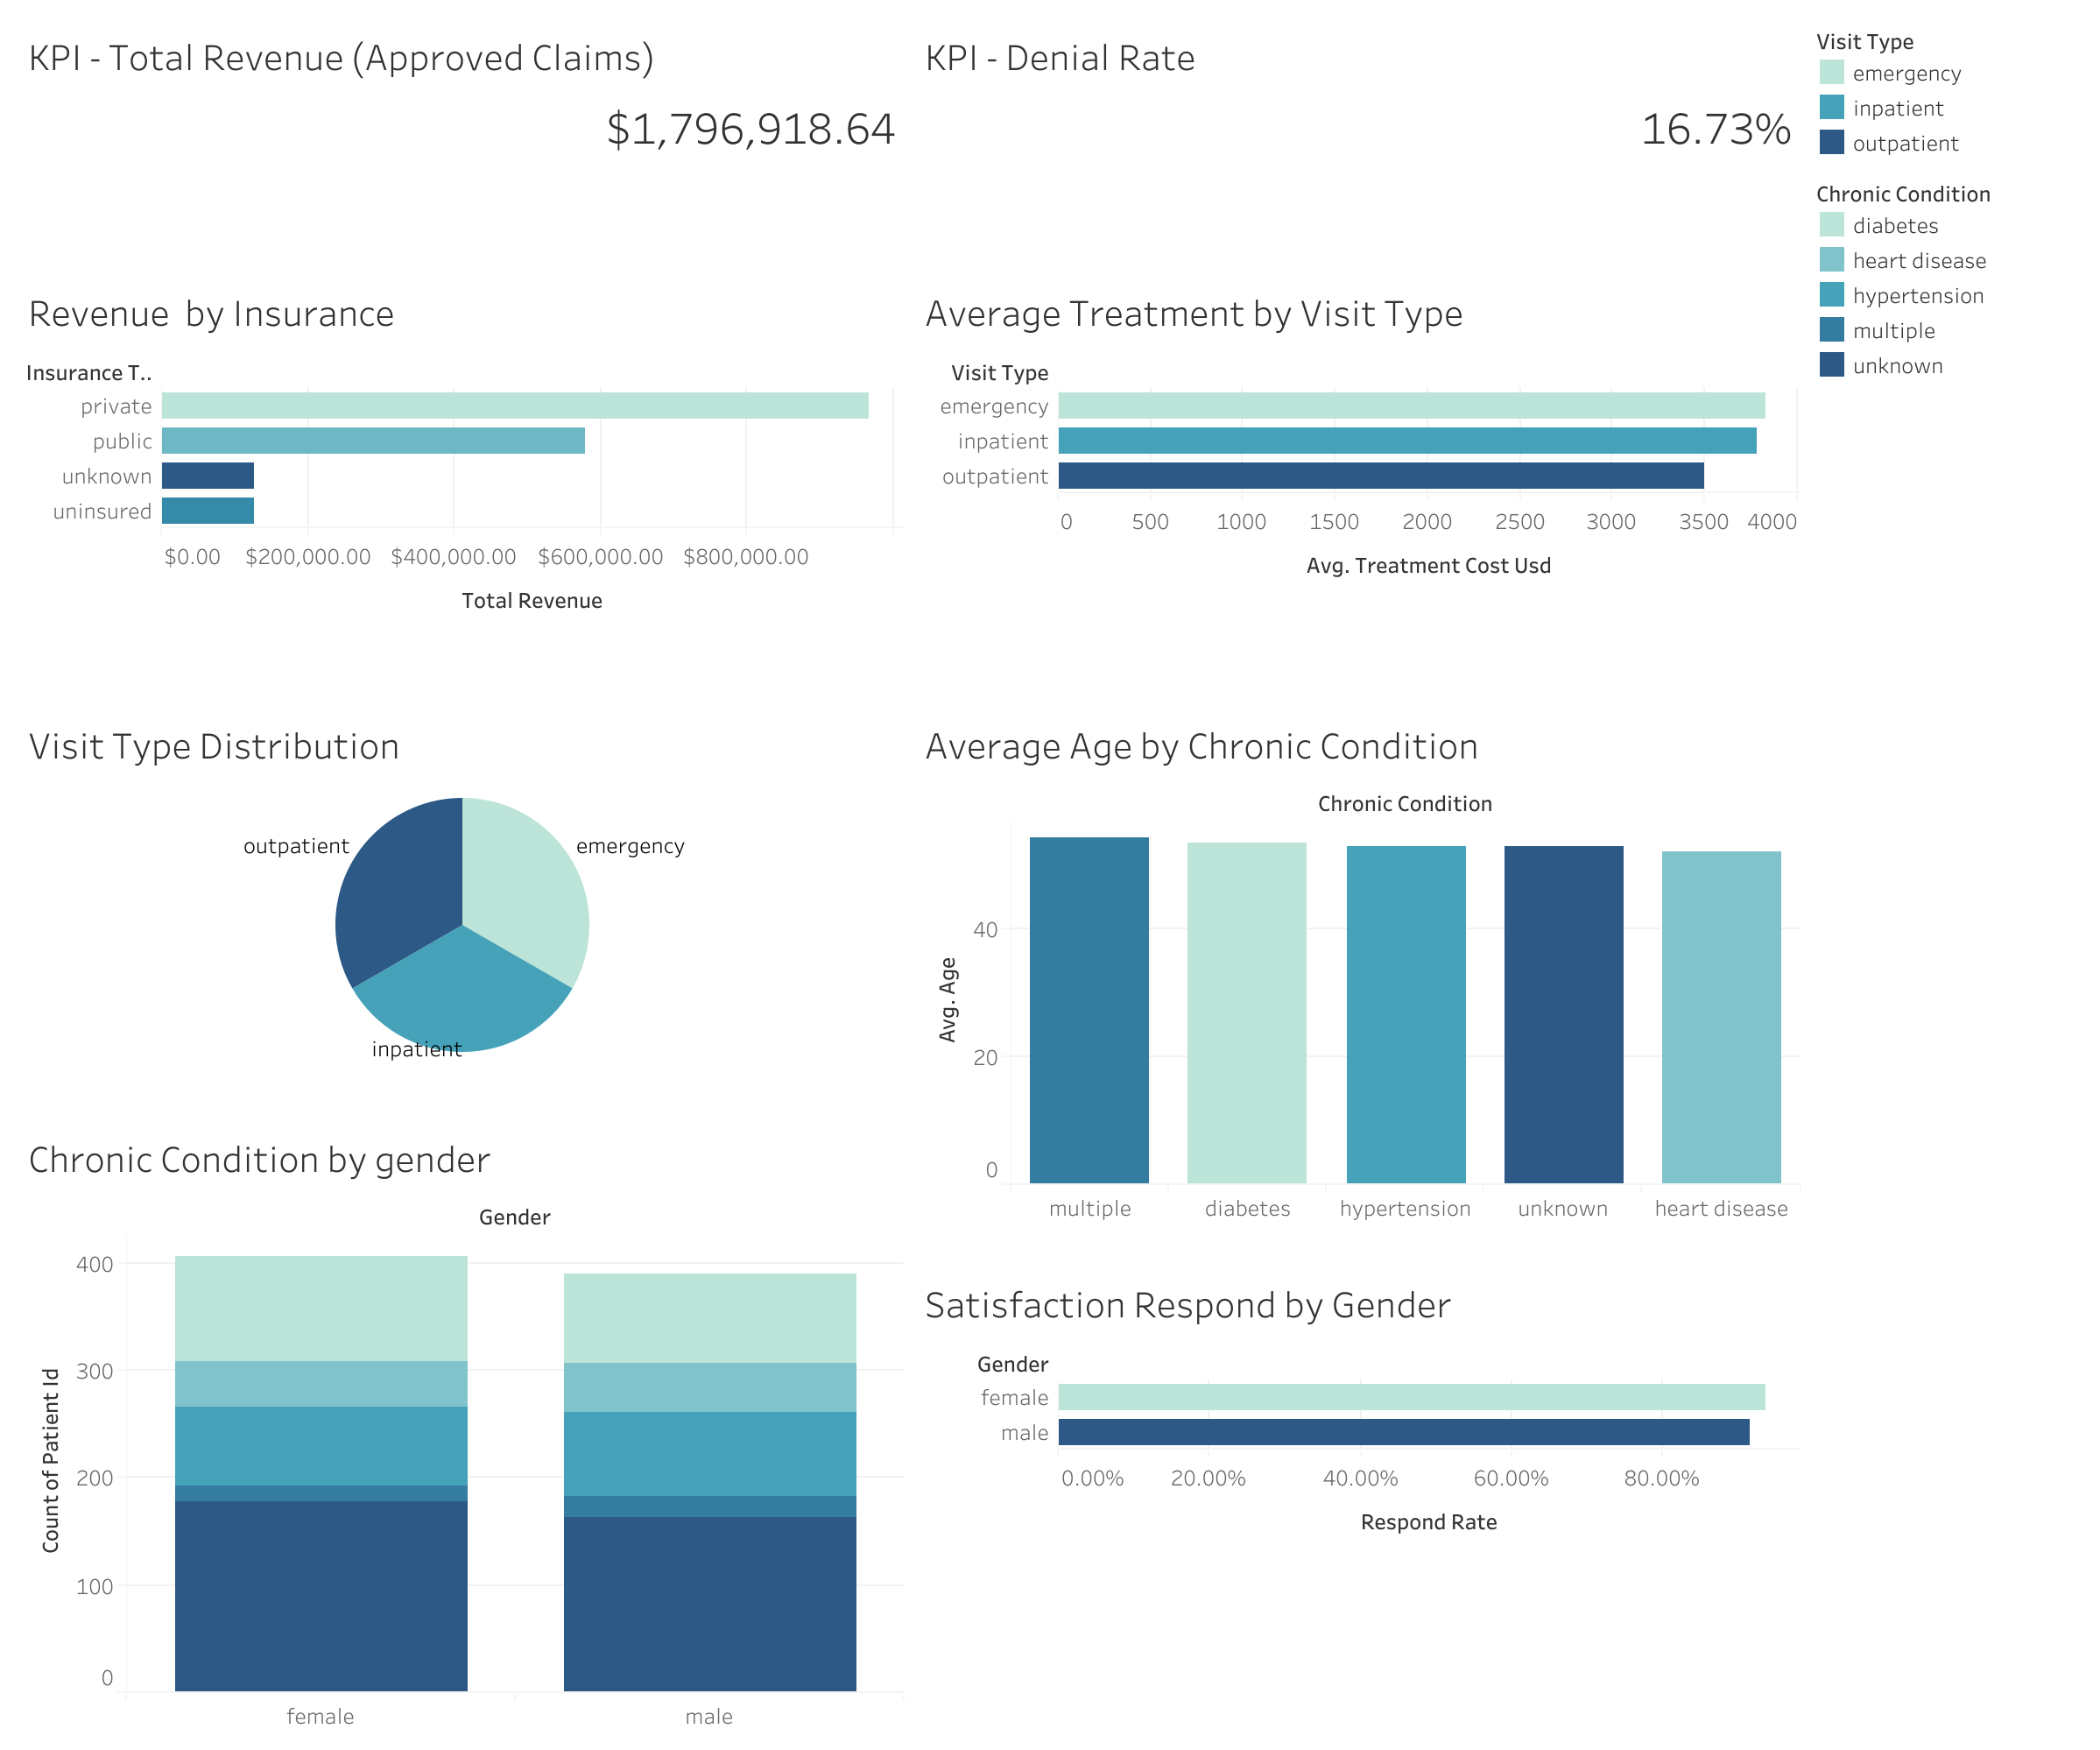

What the dashboard file says about the page in this screenshot:
{"tool":"tableau","page":{"name":"HealthCare Dashboard","canvas":[1200,1000],"ordinal":0},"visuals":[{"type":"worksheet","title":"KPI - Total Revenue (Approved Claims)","mark":"Automatic","box":[8,8,512,145.8]},{"type":"worksheet","title":"KPI - Denial Rate","mark":"Automatic","box":[520,8,512,145.8]},{"type":"legend","title":"Visit Type Distribution","param":"[federated.0gcnler0zsh6en15s2vam0u8z1nk].[none:visit_type:nk]","box":[1032,8,160,86]},{"type":"legend","title":"Chronic Condition by gender ","param":"[federated.0gcnler0zsh6en15s2vam0u8z1nk].[none:chronic_condition:nk]","box":[1032,94,160,126]},{"type":"worksheet","title":"Revenue  by Insurance","mark":"Automatic","rows":["insurance_type"],"cols":["Calculation_931822943112220672"],"box":[8,153.8,512,247.1]},{"type":"worksheet","title":"Average Treatment by Visit Type","mark":"Automatic","rows":["visit_type"],"cols":["treatment_cost_usd"],"box":[520,153.8,512,247.1]},{"type":"worksheet","title":"Visit Type Distribution","mark":"Pie","box":[8,400.9,512,236.1]},{"type":"worksheet","title":"Average Age by Chronic Condition","mark":"Automatic","rows":["age"],"cols":["chronic_condition"],"box":[520,400.9,512,319.1]},{"type":"worksheet","title":"Chronic Condition by gender ","mark":"Automatic","rows":["patient_id"],"cols":["gender"],"box":[8,637,512,355]},{"type":"worksheet","title":"Satisfaction Respond by Gender","mark":"Automatic","rows":["gender"],"cols":["Calculation_931822943119671298"],"box":[520,720,512,272]}]}

Visuals, with their boxes in screenshot pixels (x1, y1, x2, y2), scaled from the page's 1200x1000 canvas onto the 2100x1750 screenshot:
"KPI - Total Revenue (Approved Claims)" worksheet: l=14, t=14, r=910, b=269
"KPI - Denial Rate" worksheet: l=910, t=14, r=1806, b=269
"Visit Type Distribution" legend: l=1806, t=14, r=2086, b=165
"Chronic Condition by gender " legend: l=1806, t=165, r=2086, b=385
"Revenue  by Insurance" worksheet: l=14, t=269, r=910, b=702
"Average Treatment by Visit Type" worksheet: l=910, t=269, r=1806, b=702
"Visit Type Distribution" worksheet (Pie marks): l=14, t=702, r=910, b=1115
"Average Age by Chronic Condition" worksheet: l=910, t=702, r=1806, b=1260
"Chronic Condition by gender " worksheet: l=14, t=1115, r=910, b=1736
"Satisfaction Respond by Gender" worksheet: l=910, t=1260, r=1806, b=1736
